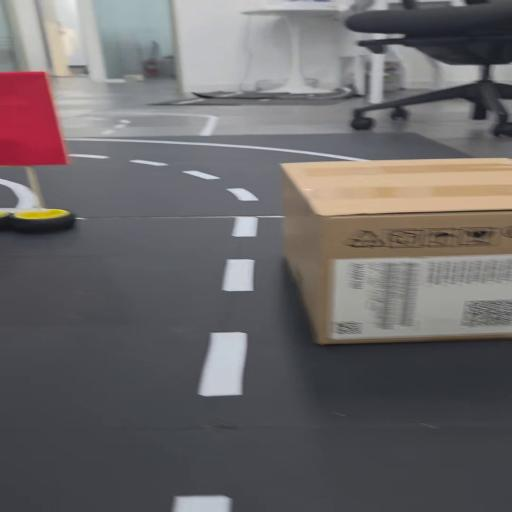Box: (275, 157, 512, 358)
Sign_A: (0, 72, 94, 238)
